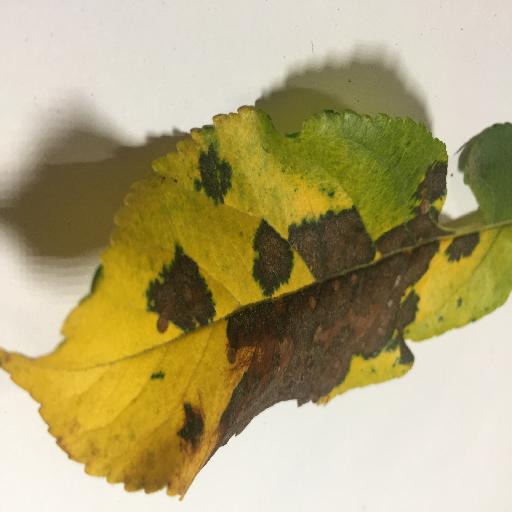Brown_Spot: (220, 181, 448, 430), (135, 266, 212, 335)
